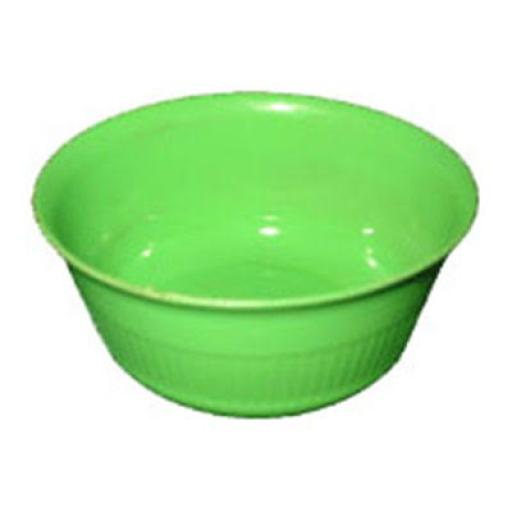Bowl: (33, 92, 477, 416)
